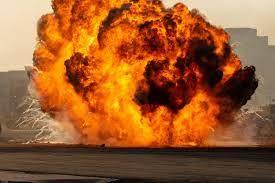fire: (25, 0, 224, 144)
